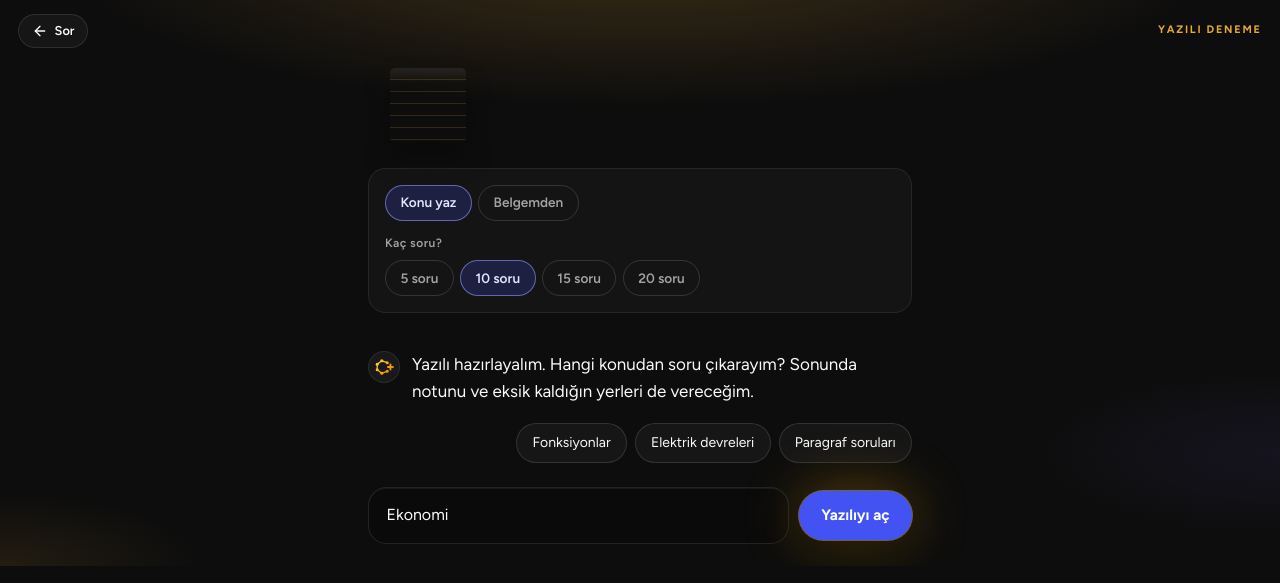
Scenario: yazılı deneme aracı: açık uçlu ve çok cevaplı soru › açık uçluya yazı alanı, çok cevaplıya çoklu işaret; teslimde cevaplar doğru biçimde gider
Click the button "Yazılıyı aç" at {"x": 855, "y": 516}, box [799,491,912,540]
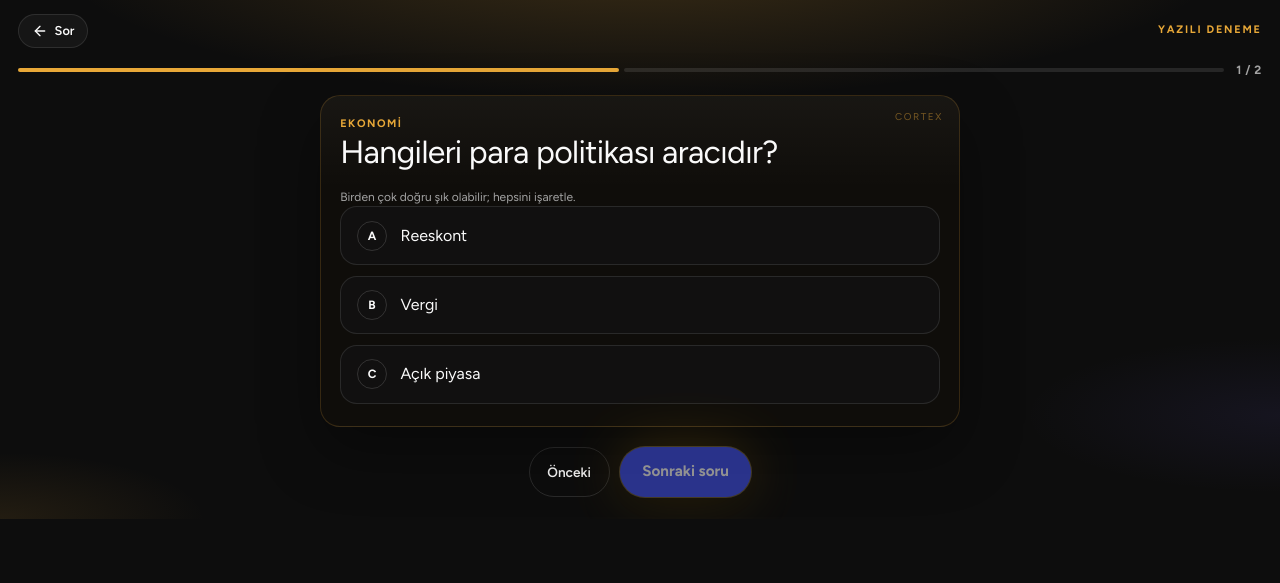
Expected: the text "Birden çok doğru şık olabilir; hepsini işaretle." is shown, [340,190,576,204]
Click the button "A Reeskont" at {"x": 434, "y": 235}, box [340,206,940,265]
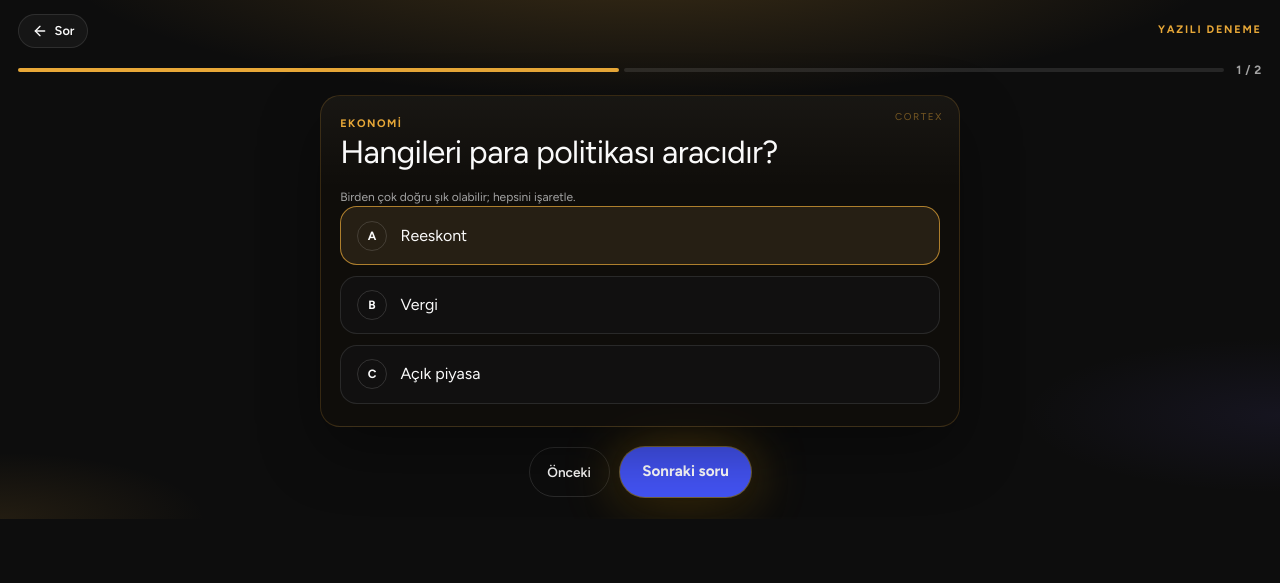
Click the button "C Açık piyasa" at {"x": 440, "y": 374}, box [340,345,940,404]
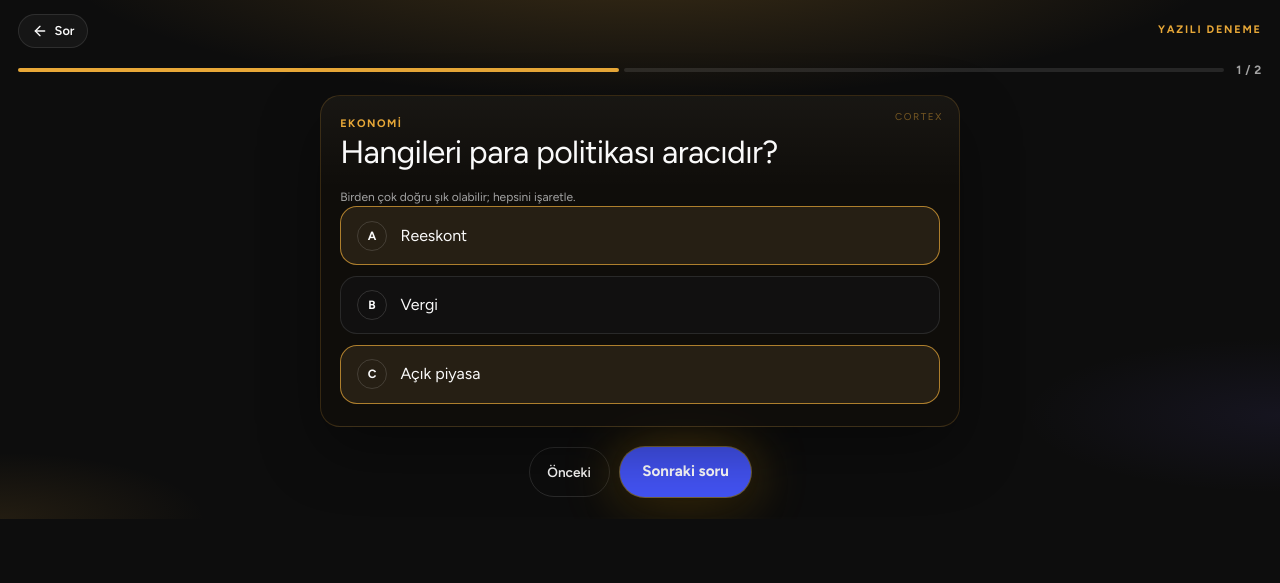
Click the button "Sonraki soru" at {"x": 686, "y": 472}, box [620,447,751,497]
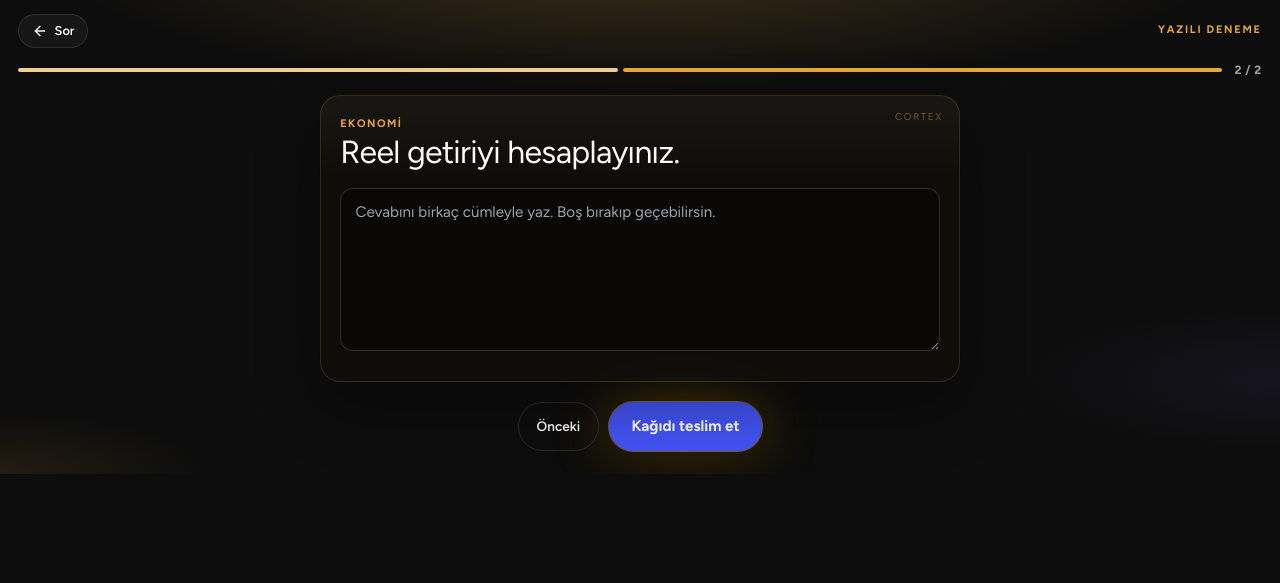
Expected: the button "Kağıdı teslim et" is enabled, [609,402,762,451]
Type "45 - 40 = yaklaşık %5" into the text box labelled "Cevabın" at {"x": 640, "y": 270}, box [340,188,940,351]
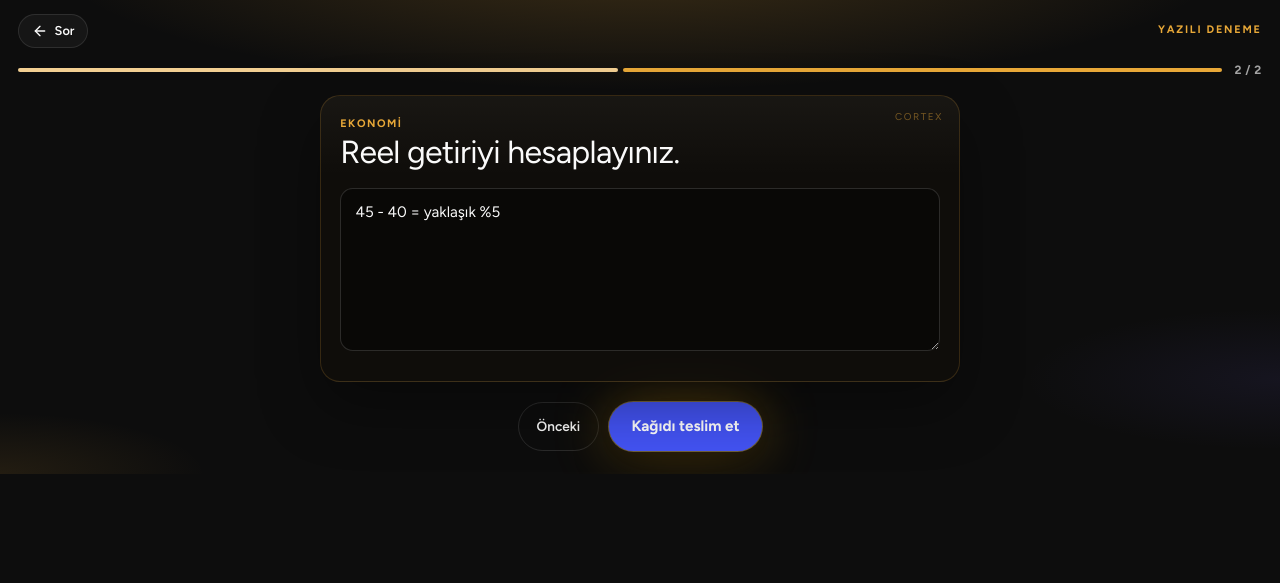
Click the button "Kağıdı teslim et" at {"x": 686, "y": 426}, box [609,402,762,451]
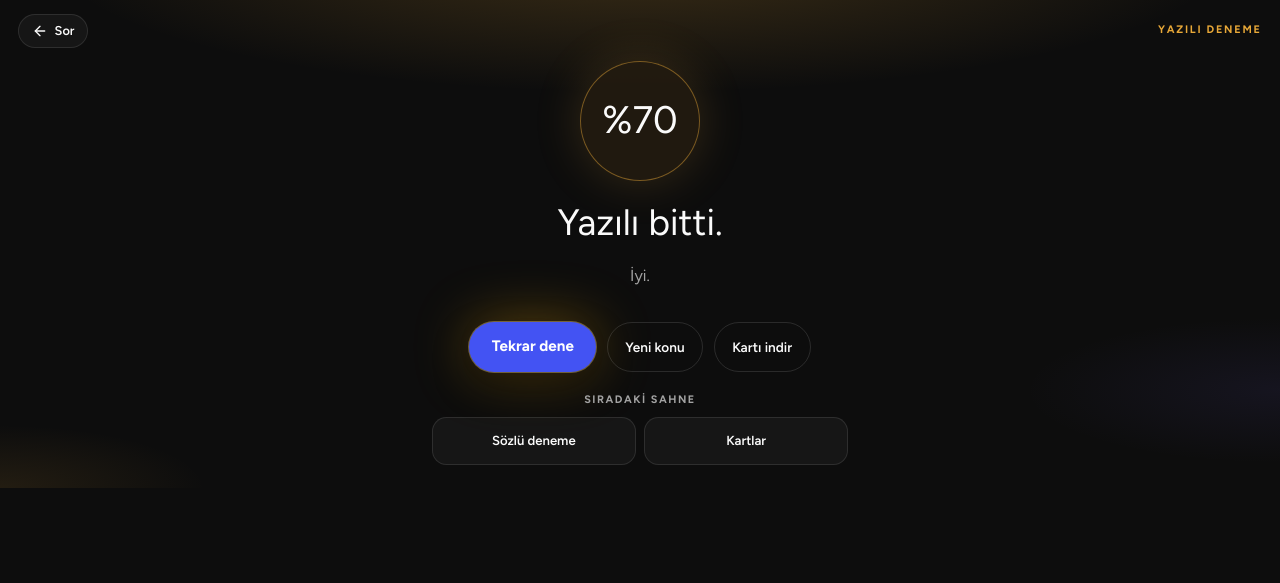
Expected: the text "%70" is shown, [580,61,700,181]
